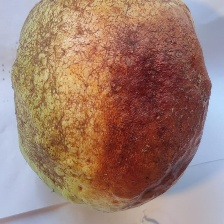guava: (50, 54, 194, 198)
